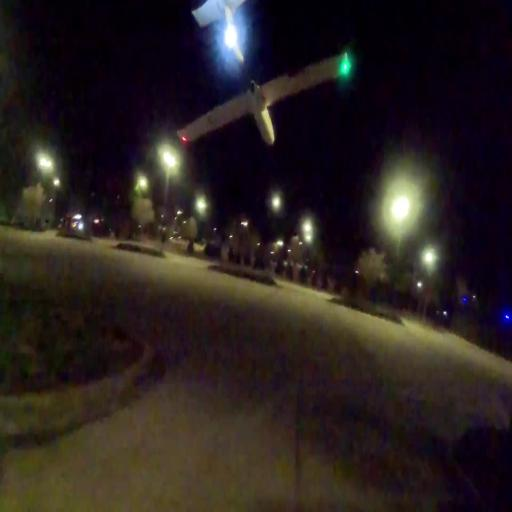uav: (160, 0, 355, 158)
